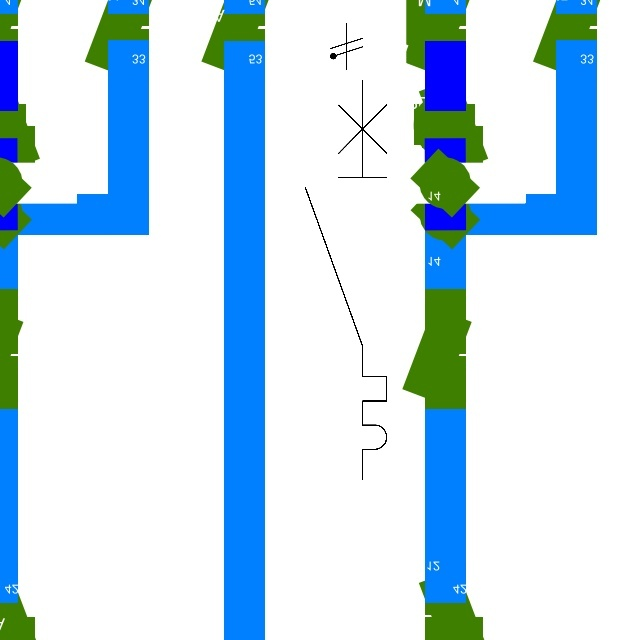interruptor_termomagnetico: (295, 70, 397, 489)
